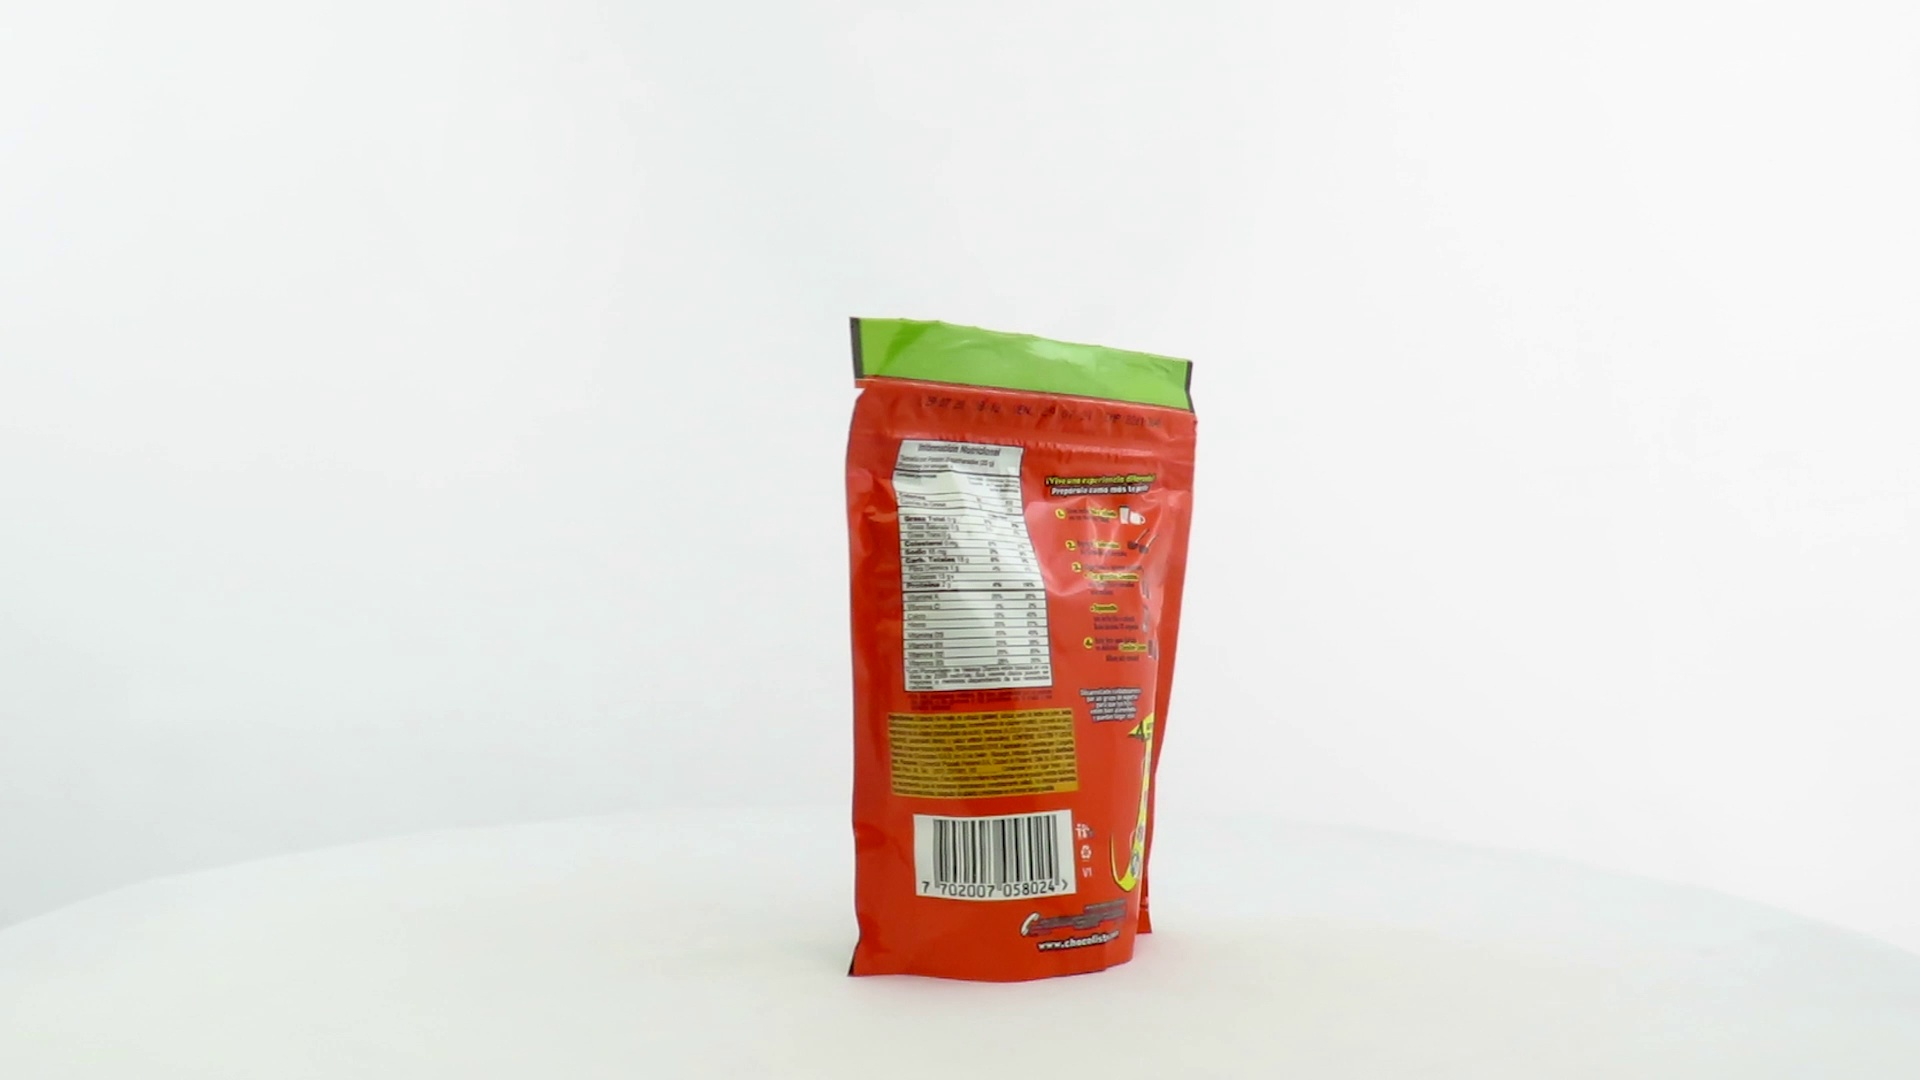COL0170102DYP10000: (840, 313, 1204, 989)
